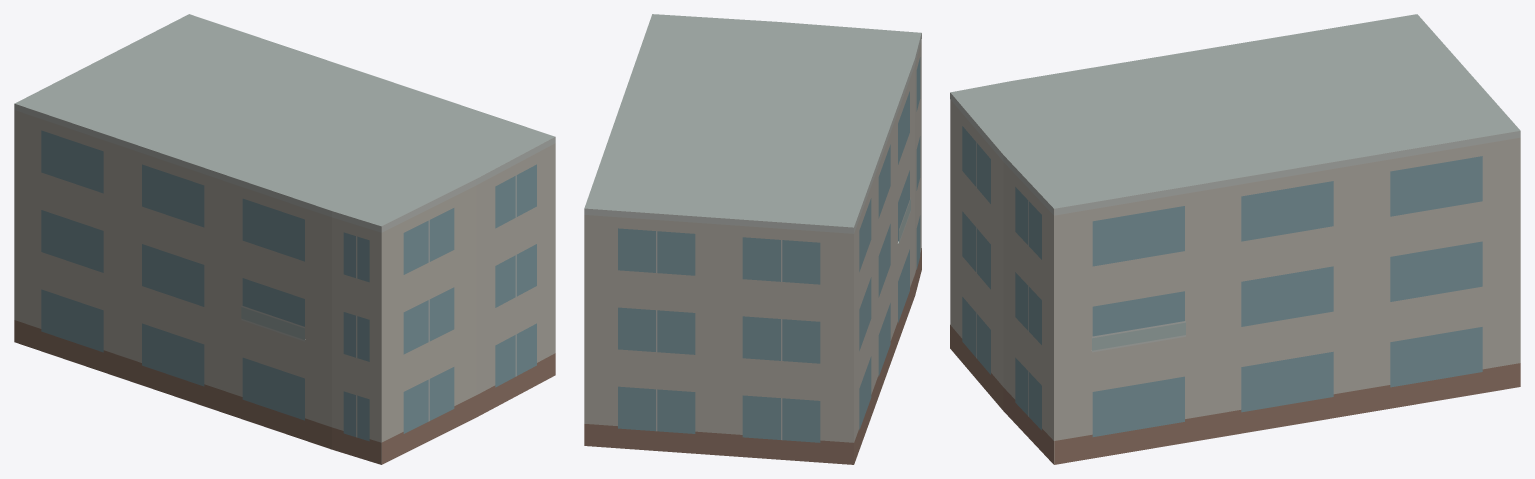
The model's file is survey-upis-32679874.glb.
3 views of the same model, side by side, from view 1: azimuth 30°, elevation 25°; view 2: azimuth 150°, elevation 25°; view 3: azimuth 270°, elevation 25° (orthographic). The views are drawn at different scales.
Parts seen in each view (by area): view 1: survey-upis-32679874.tmp; view 2: survey-upis-32679874.tmp; view 3: survey-upis-32679874.tmp.
Part boxes in pixels (x1=…): survey-upis-32679874.tmp: x1=14, y1=14, x2=555, y2=464; survey-upis-32679874.tmp: x1=584, y1=14, x2=921, y2=464; survey-upis-32679874.tmp: x1=950, y1=14, x2=1520, y2=464.
Bounding box in the file's own units: 14.94 × 9.15 × 18.49.
